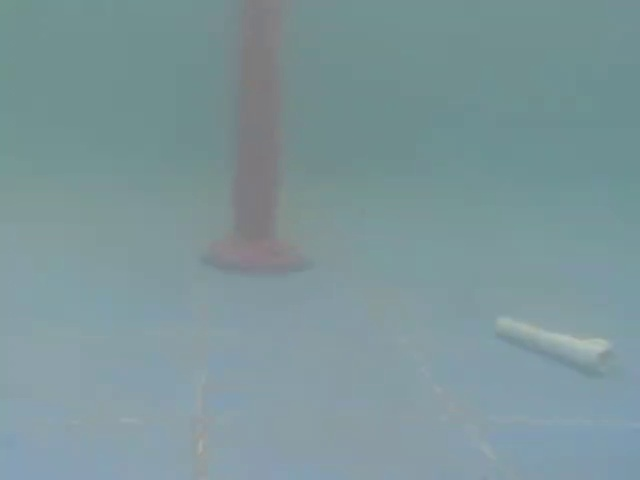flare: (204, 0, 313, 289)
